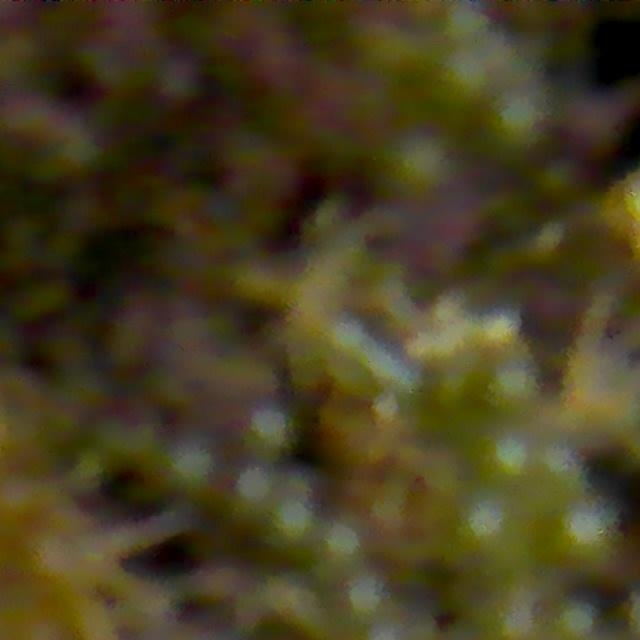SeaGrape: (268, 494, 318, 547)
